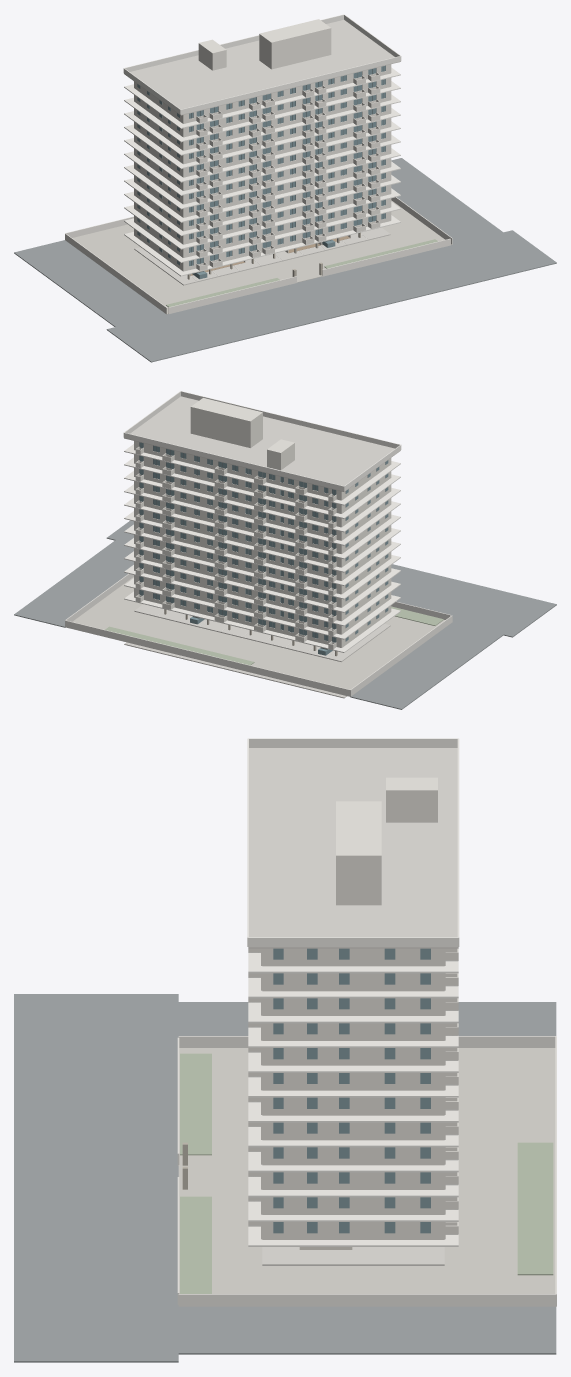
The model's file is building.glb.
The picture shows the model from 3 angles, top to bottom: view 1: azimuth 30°, elevation 25°; view 2: azimuth 150°, elevation 25°; view 3: azimuth 270°, elevation 25°; orthographic projection. The views are drawn at different scales.
Visible parts, largest first — view 1: None_road, 13_slab, None_paving, None_white, 13_plaster, 13_band, 8_plaster, 5_plaster, 6_plaster, 1_plaster, 3_plaster, 10_plaster (+32 smaller); view 2: None_road, None_paving, 13_slab, None_white, 13_plaster, 13_band, 0_slab, 3_plaster, 5_plaster, 2_plaster, 8_plaster, 9_plaster (+33 smaller); view 3: None_road, None_paving, 13_slab, None_grass, None_white, 13_plaster, 13_band, 0_slab, 11_plaster, 12_plaster, 4_plaster, 5_plaster (+20 smaller).
Boxes of the visible parts, x1=… form: None_road: x1=14, y1=158, x2=556, y2=362; 13_slab: x1=124, y1=20, x2=400, y2=115; None_paving: x1=72, y1=200, x2=451, y2=314; None_white: x1=65, y1=197, x2=452, y2=314; 13_plaster: x1=198, y1=19, x2=331, y2=70; 13_band: x1=123, y1=14, x2=401, y2=114; 8_plaster: x1=134, y1=118, x2=391, y2=177; 5_plaster: x1=134, y1=158, x2=391, y2=217; 6_plaster: x1=134, y1=145, x2=391, y2=204; 1_plaster: x1=134, y1=212, x2=391, y2=271; 3_plaster: x1=134, y1=185, x2=391, y2=244; 10_plaster: x1=134, y1=91, x2=391, y2=150; None_road: x1=14, y1=520, x2=556, y2=709; None_paving: x1=72, y1=577, x2=444, y2=689; 13_slab: x1=124, y1=396, x2=400, y2=491; None_white: x1=65, y1=573, x2=452, y2=696; 13_plaster: x1=190, y1=398, x2=294, y2=470; 13_band: x1=123, y1=391, x2=401, y2=491; 0_slab: x1=134, y1=604, x2=390, y2=661; 3_plaster: x1=134, y1=561, x2=391, y2=622; 5_plaster: x1=134, y1=535, x2=391, y2=595; 2_plaster: x1=134, y1=575, x2=391, y2=635; 8_plaster: x1=134, y1=494, x2=391, y2=555; 9_plaster: x1=134, y1=481, x2=391, y2=541; None_road: x1=14, y1=994, x2=556, y2=1362; None_paving: x1=178, y1=1048, x2=555, y2=1293; 13_slab: x1=248, y1=748, x2=458, y2=948; None_grass: x1=180, y1=1053, x2=553, y2=1293; None_white: x1=177, y1=1036, x2=556, y2=1306; 13_plaster: x1=336, y1=777, x2=437, y2=905; 13_band: x1=247, y1=738, x2=459, y2=947; 0_slab: x1=262, y1=1247, x2=444, y2=1265; 11_plaster: x1=248, y1=973, x2=458, y2=991; 12_plaster: x1=248, y1=948, x2=458, y2=966; 4_plaster: x1=248, y1=1147, x2=458, y2=1165; 5_plaster: x1=248, y1=1122, x2=458, y2=1140.
Bounding box in the file's own units: 95 × 52.36 × 59.38.
